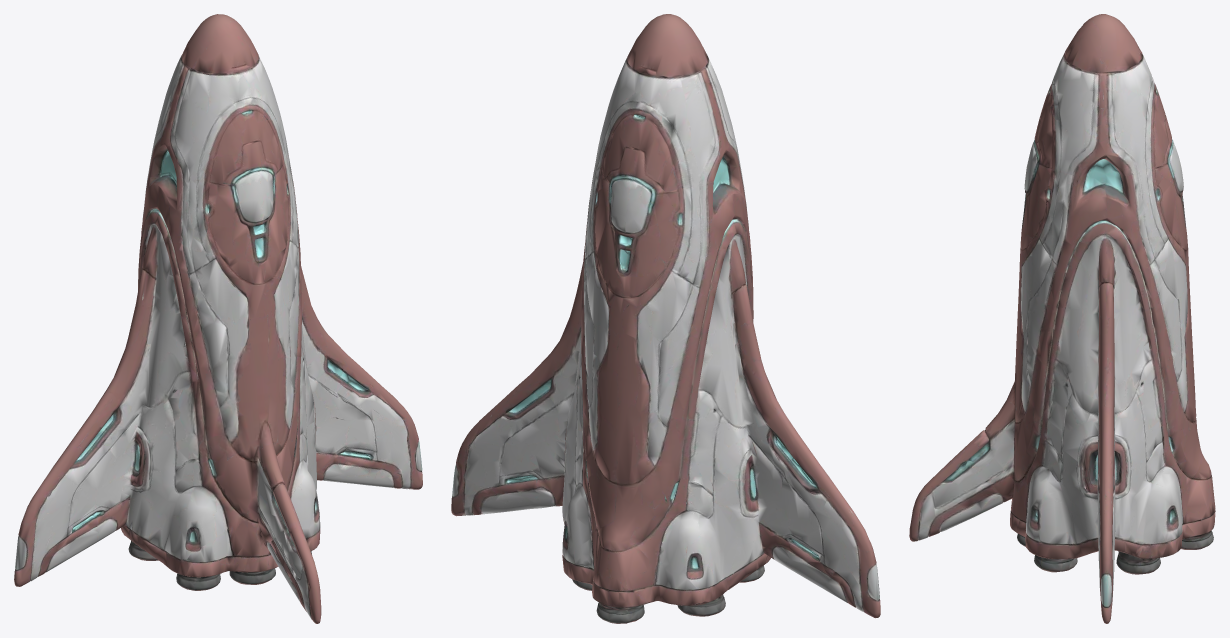
Rendered from vaisseau.glb.
3 views of the same model, side by side, from view 1: azimuth 30°, elevation 25°; view 2: azimuth 150°, elevation 25°; view 3: azimuth 270°, elevation 25° (orthographic). The views are drawn at different scales.
Bounding box in the file's own units: 1.51 × 1.9 × 1.
Materials: 1 (1 with a texture image).
